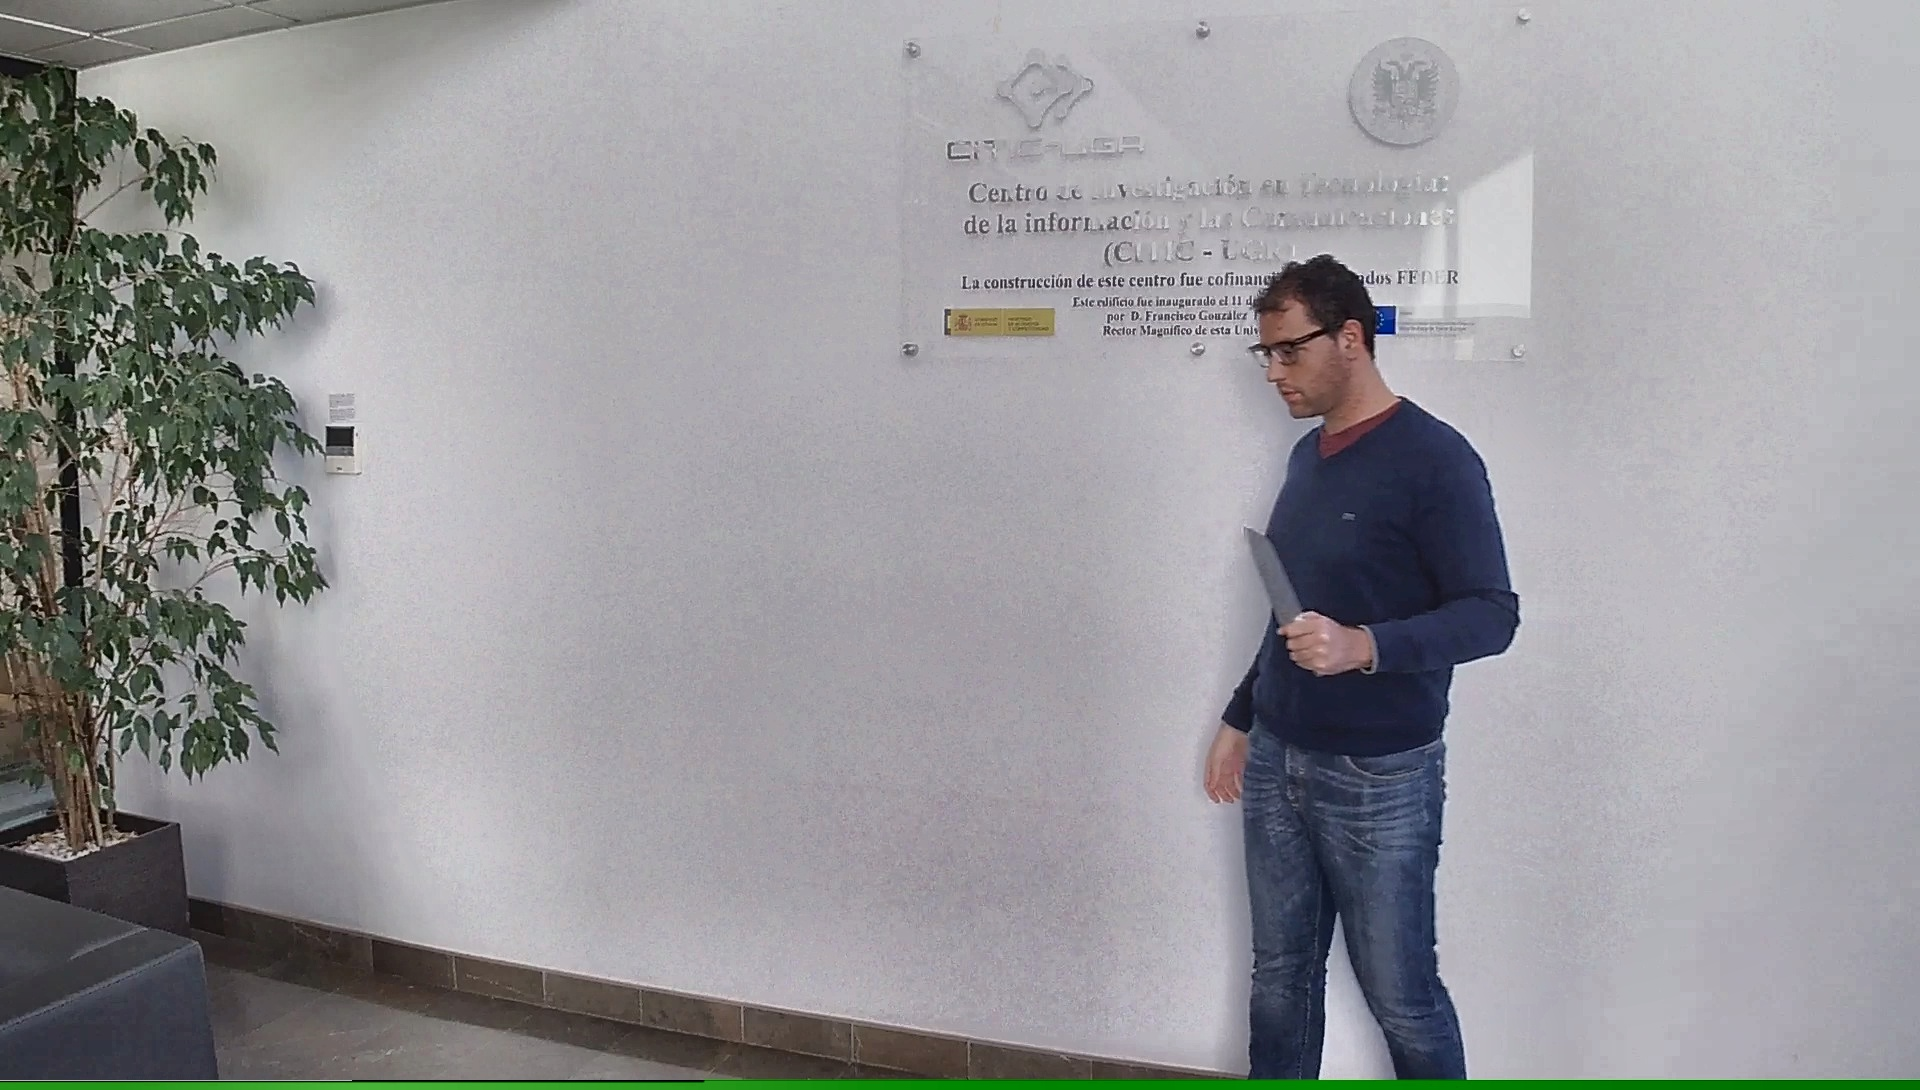knife: (1233, 518, 1327, 677)
